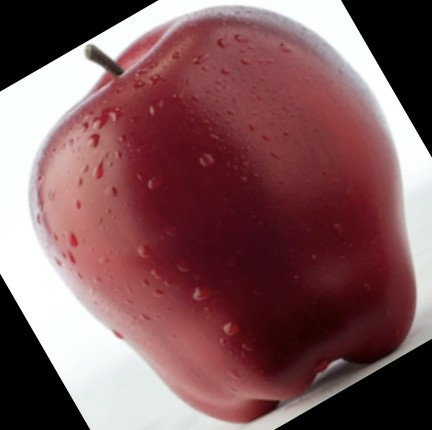fresh_apple: (34, 6, 417, 421)
